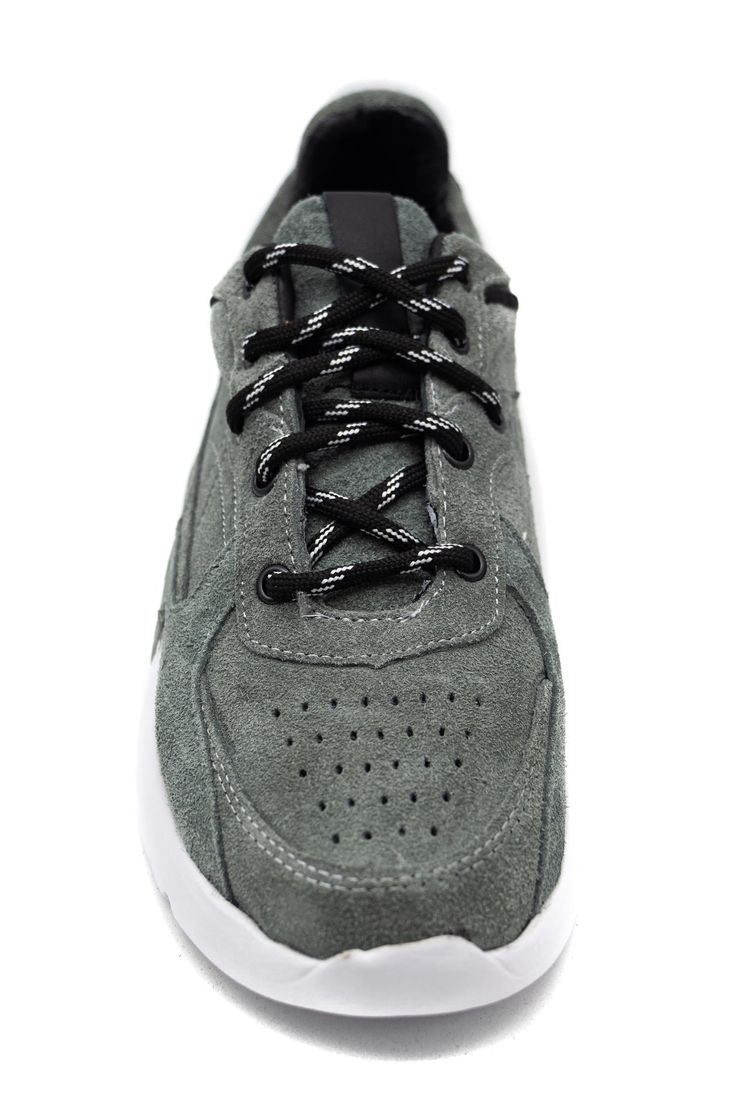gamuza: (160, 189, 566, 958)
